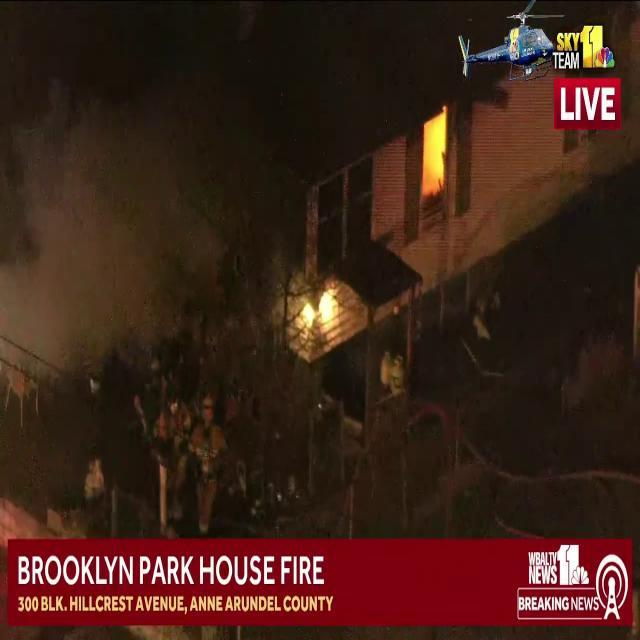Fire: (298, 278, 340, 340)
Smoke: (0, 19, 256, 384)
